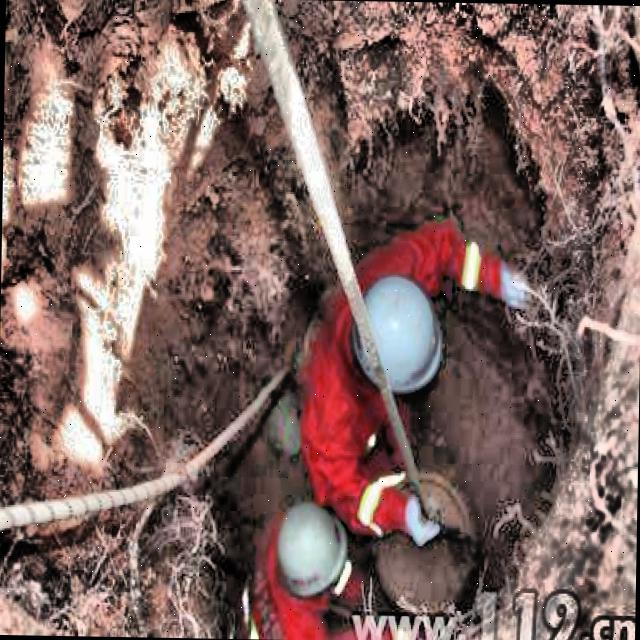helmet: (344, 272, 451, 418), (268, 502, 358, 606)
